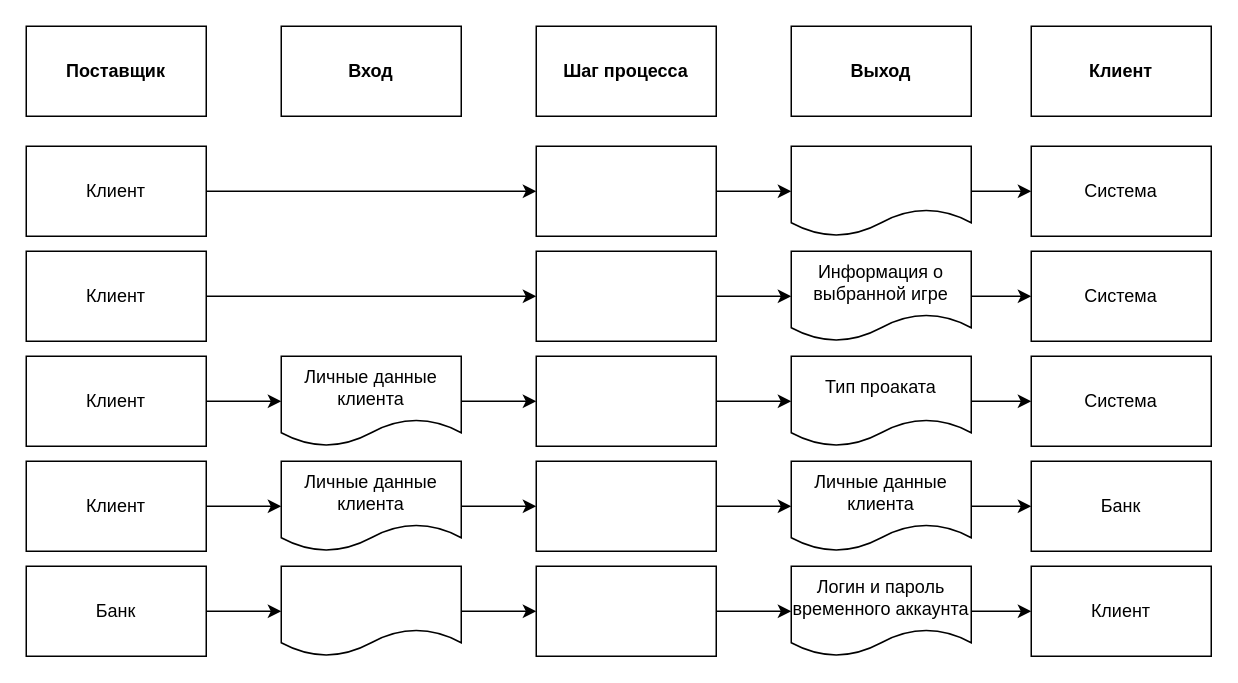
Some shapes in this 1238 by 683 pixel diagram are drawn without their labels. The centre of each missing label's shape, as x and y in pixels:
"1. Предоставить список доступных видеоигр (Система)" belongs at point (625, 190).
"2. Выбор видеоигры" belongs at point (625, 295).
"3. Оформление заказа" belongs at point (625, 400).
"4. Оплата" belongs at point (625, 505).
"5. Предоставление логина и пароля временного аккаунта" belongs at point (625, 610).
"Информация об оплате" belongs at point (370, 610).
"Каталог видеоигр" belongs at point (880, 190).
